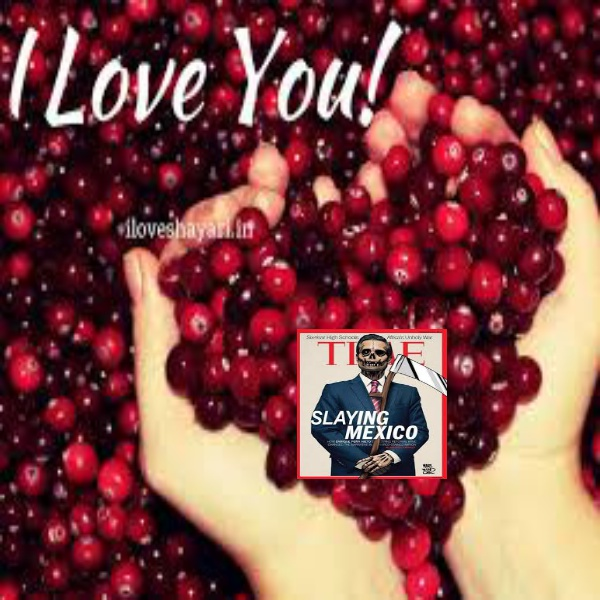time_cover: (295, 318, 452, 483)
